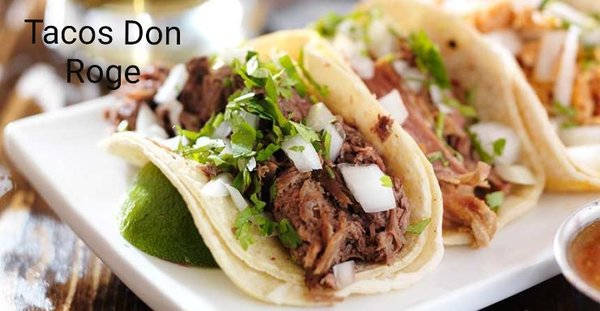soup: (95, 9, 449, 300)
sushi: (5, 36, 546, 307), (553, 199, 600, 308)
